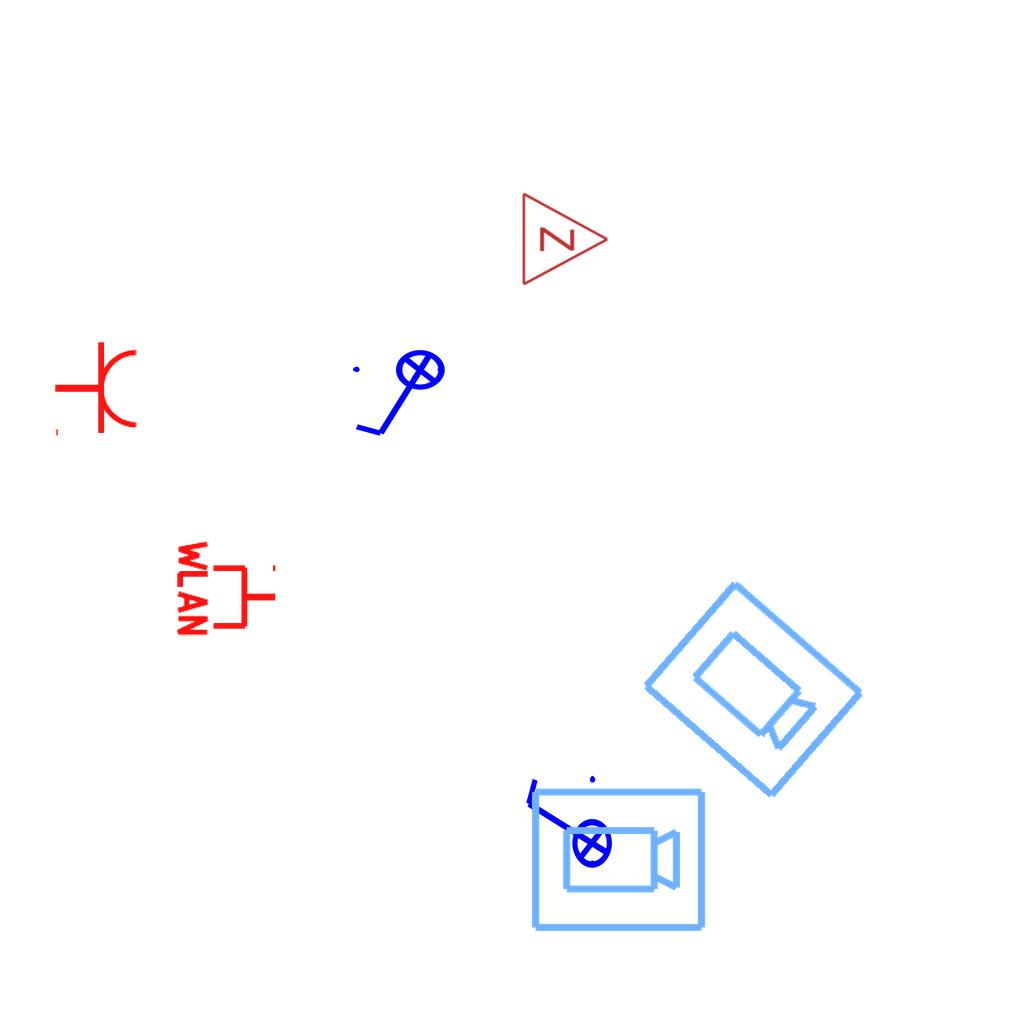Ausschalter_beleuchtet: (347, 348, 459, 444), (518, 770, 614, 882)
KFO_Kamera_mit_Festobjektiv: (632, 572, 872, 808), (527, 784, 709, 938)
Schukosteckdose_einfach: (53, 340, 140, 440)
WLAN: (175, 536, 280, 640)
Zimmersignalleuchte: (515, 189, 615, 287)
